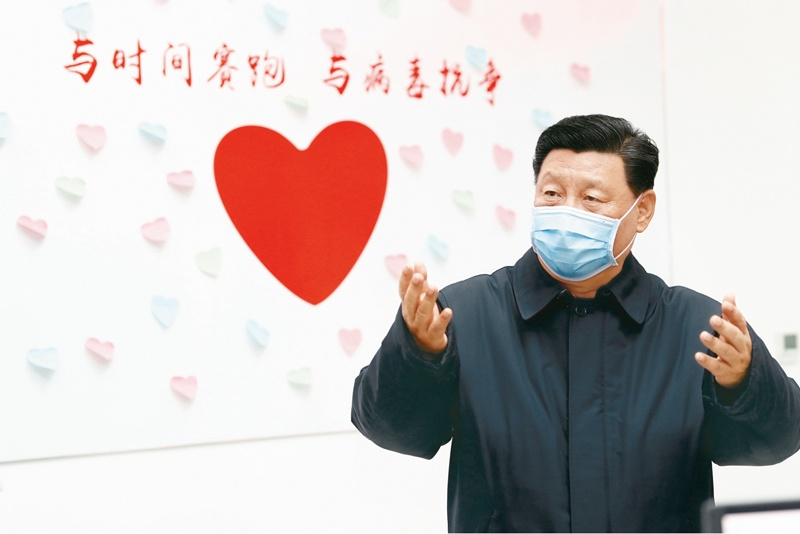correctlyWear: (531, 162, 658, 281)
